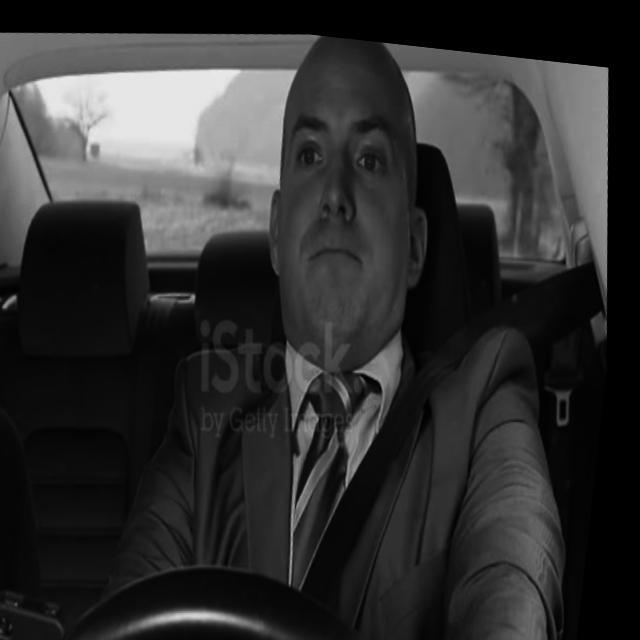PhoneCall: (0, 576, 85, 640)
